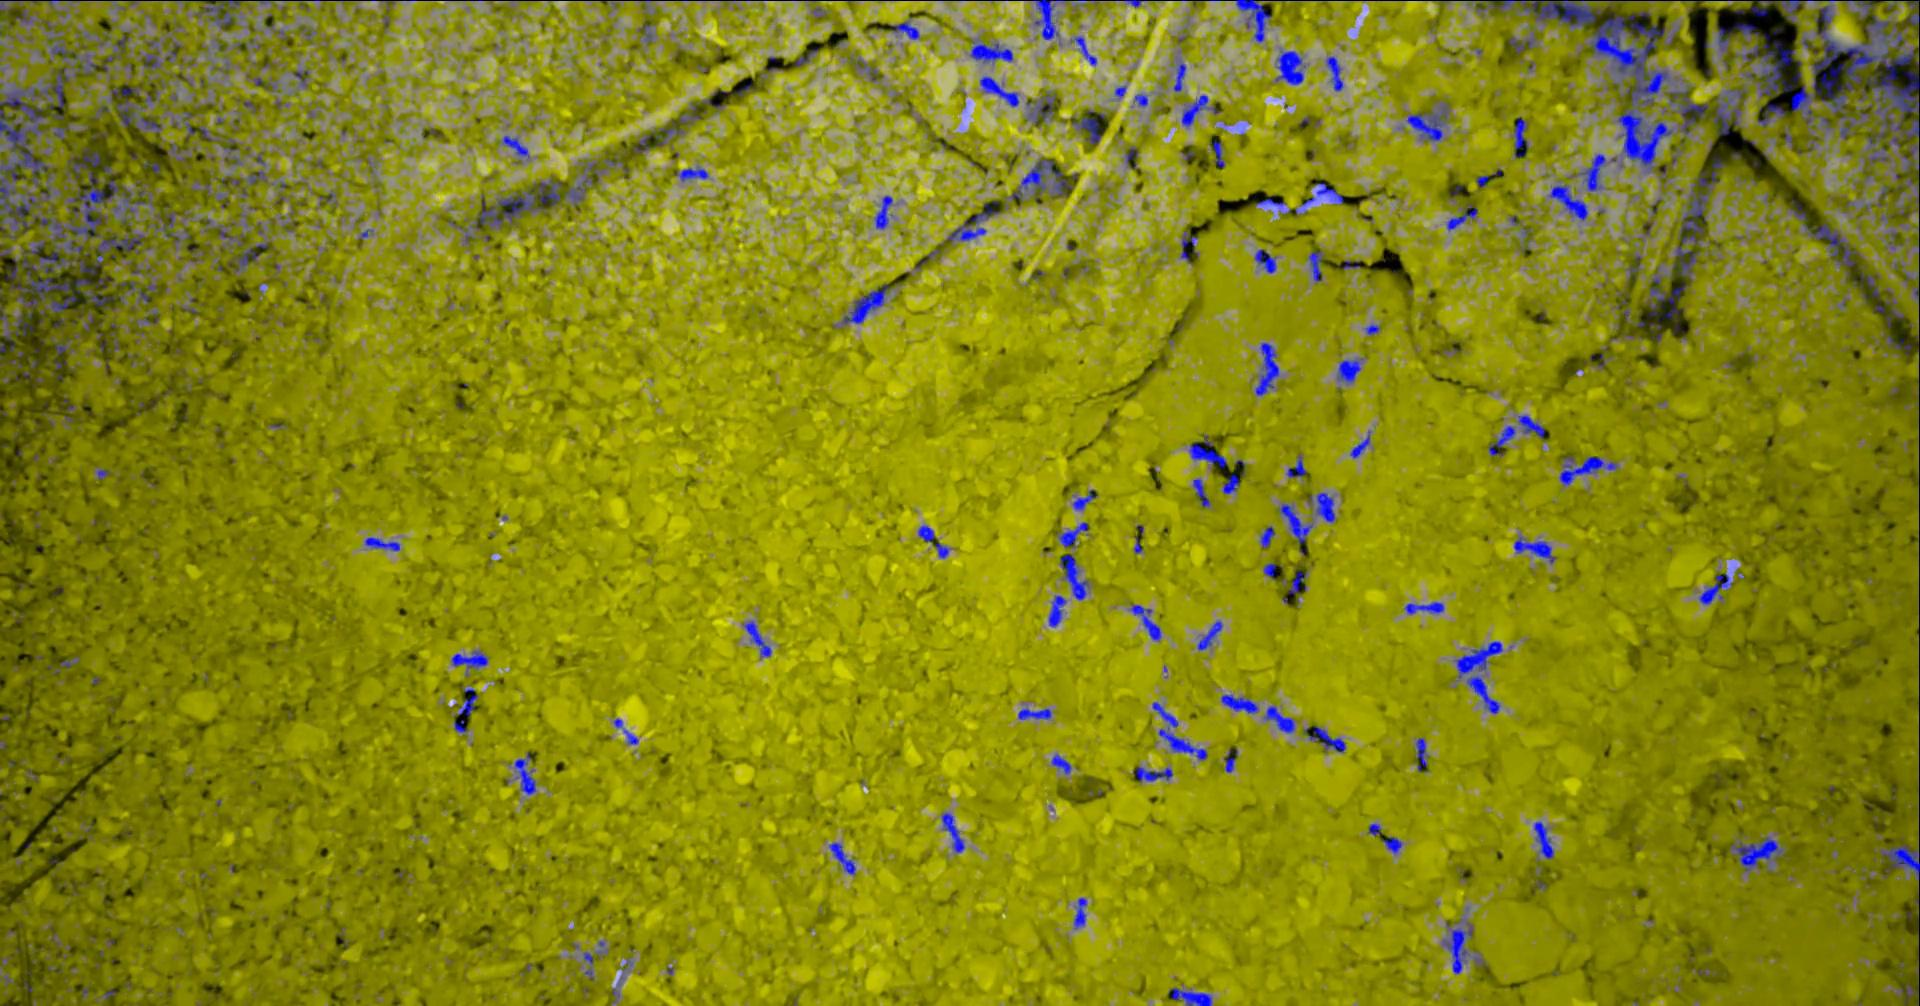ant: (1680, 155, 1724, 245), (1154, 701, 1209, 760), (1804, 224, 1862, 278), (1012, 158, 1074, 199), (1650, 276, 1689, 342), (949, 199, 1001, 240), (1669, 89, 1710, 133), (1732, 836, 1784, 871), (1710, 88, 1749, 135), (844, 283, 889, 323), (1561, 456, 1619, 485), (634, 121, 684, 152), (1236, 0, 1272, 42), (1408, 103, 1449, 140), (112, 83, 143, 127), (1445, 926, 1474, 973), (1550, 184, 1589, 220), (1901, 934, 1920, 1005), (1280, 503, 1314, 542), (1752, 0, 1815, 22), (1062, 554, 1090, 600), (1883, 845, 1920, 879), (197, 0, 244, 27), (1034, 0, 1065, 39), (1257, 342, 1280, 395), (1191, 434, 1228, 467), (103, 30, 131, 72), (229, 243, 270, 271), (1873, 290, 1905, 326), (1183, 95, 1222, 126), (1515, 536, 1558, 563), (67, 147, 102, 180), (982, 76, 1020, 105), (1131, 605, 1162, 640), (149, 211, 182, 243), (1700, 573, 1733, 605), (1073, 109, 1103, 144), (745, 620, 773, 657), (1031, 93, 1062, 126), (919, 525, 950, 558), (1277, 50, 1307, 84), (1895, 155, 1920, 194), (1310, 725, 1347, 752), (1582, 152, 1608, 191), (1672, 245, 1700, 279), (1854, 265, 1881, 301), (971, 39, 1015, 61), (943, 812, 966, 852), (516, 752, 537, 794), (453, 650, 489, 674), (1490, 426, 1517, 456), (1266, 705, 1297, 733), (1448, 203, 1479, 230), (830, 842, 857, 874), (1072, 36, 1098, 65), (1170, 987, 1213, 1005), (1535, 821, 1556, 857), (1060, 522, 1090, 547), (1222, 694, 1260, 713), (1199, 620, 1223, 649), (215, 225, 246, 246), (1316, 182, 1346, 203), (503, 135, 531, 158), (187, 122, 220, 141), (1520, 414, 1545, 438), (1759, 103, 1785, 126), (1515, 118, 1530, 158), (1317, 492, 1336, 522), (1137, 766, 1175, 781), (458, 688, 479, 716), (1327, 56, 1343, 90), (876, 196, 894, 227), (1050, 594, 1068, 626), (1848, 0, 1877, 19), (1338, 359, 1363, 382), (1352, 431, 1371, 459), (1256, 249, 1277, 273), (1074, 489, 1098, 511), (1194, 478, 1211, 507), (1182, 231, 1199, 262), (1406, 601, 1445, 614), (891, 22, 919, 39), (676, 166, 710, 180), (1510, 36, 1537, 53), (1288, 455, 1308, 478), (679, 104, 703, 123), (15, 311, 34, 335), (1888, 335, 1912, 354), (1907, 0, 1920, 36), (366, 537, 401, 550), (1310, 249, 1324, 281), (1717, 23, 1733, 50), (796, 47, 819, 66), (1289, 572, 1308, 594), (1417, 737, 1430, 771), (223, 138, 240, 164), (1478, 169, 1503, 185), (1076, 897, 1088, 929), (1018, 708, 1053, 719), (53, 43, 79, 58), (79, 55, 99, 74), (1053, 753, 1072, 774), (1211, 140, 1225, 166), (1175, 62, 1187, 91), (142, 116, 163, 133), (566, 185, 587, 203), (140, 283, 157, 302), (1265, 561, 1284, 579), (1384, 836, 1403, 854), (1225, 748, 1239, 772), (143, 48, 160, 69), (1224, 473, 1241, 493), (734, 81, 757, 95), (1262, 526, 1276, 547), (1790, 203, 1808, 220), (55, 338, 72, 354), (1, 332, 17, 351), (1630, 255, 1642, 279), (1841, 121, 1857, 138), (66, 239, 84, 254), (1870, 149, 1890, 163), (295, 70, 310, 86), (1257, 197, 1288, 205), (625, 729, 640, 744), (102, 339, 121, 351), (1128, 147, 1139, 165), (249, 171, 265, 183), (1135, 93, 1149, 105), (455, 719, 469, 732), (1343, 260, 1363, 269), (1370, 823, 1383, 835), (1368, 324, 1382, 334)
